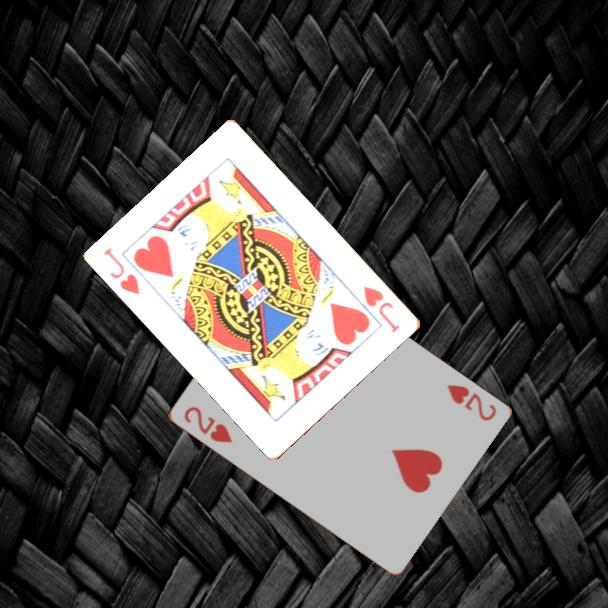h02: (442, 381, 499, 424), (180, 403, 235, 446)
h11: (360, 282, 403, 336), (100, 244, 143, 297)
